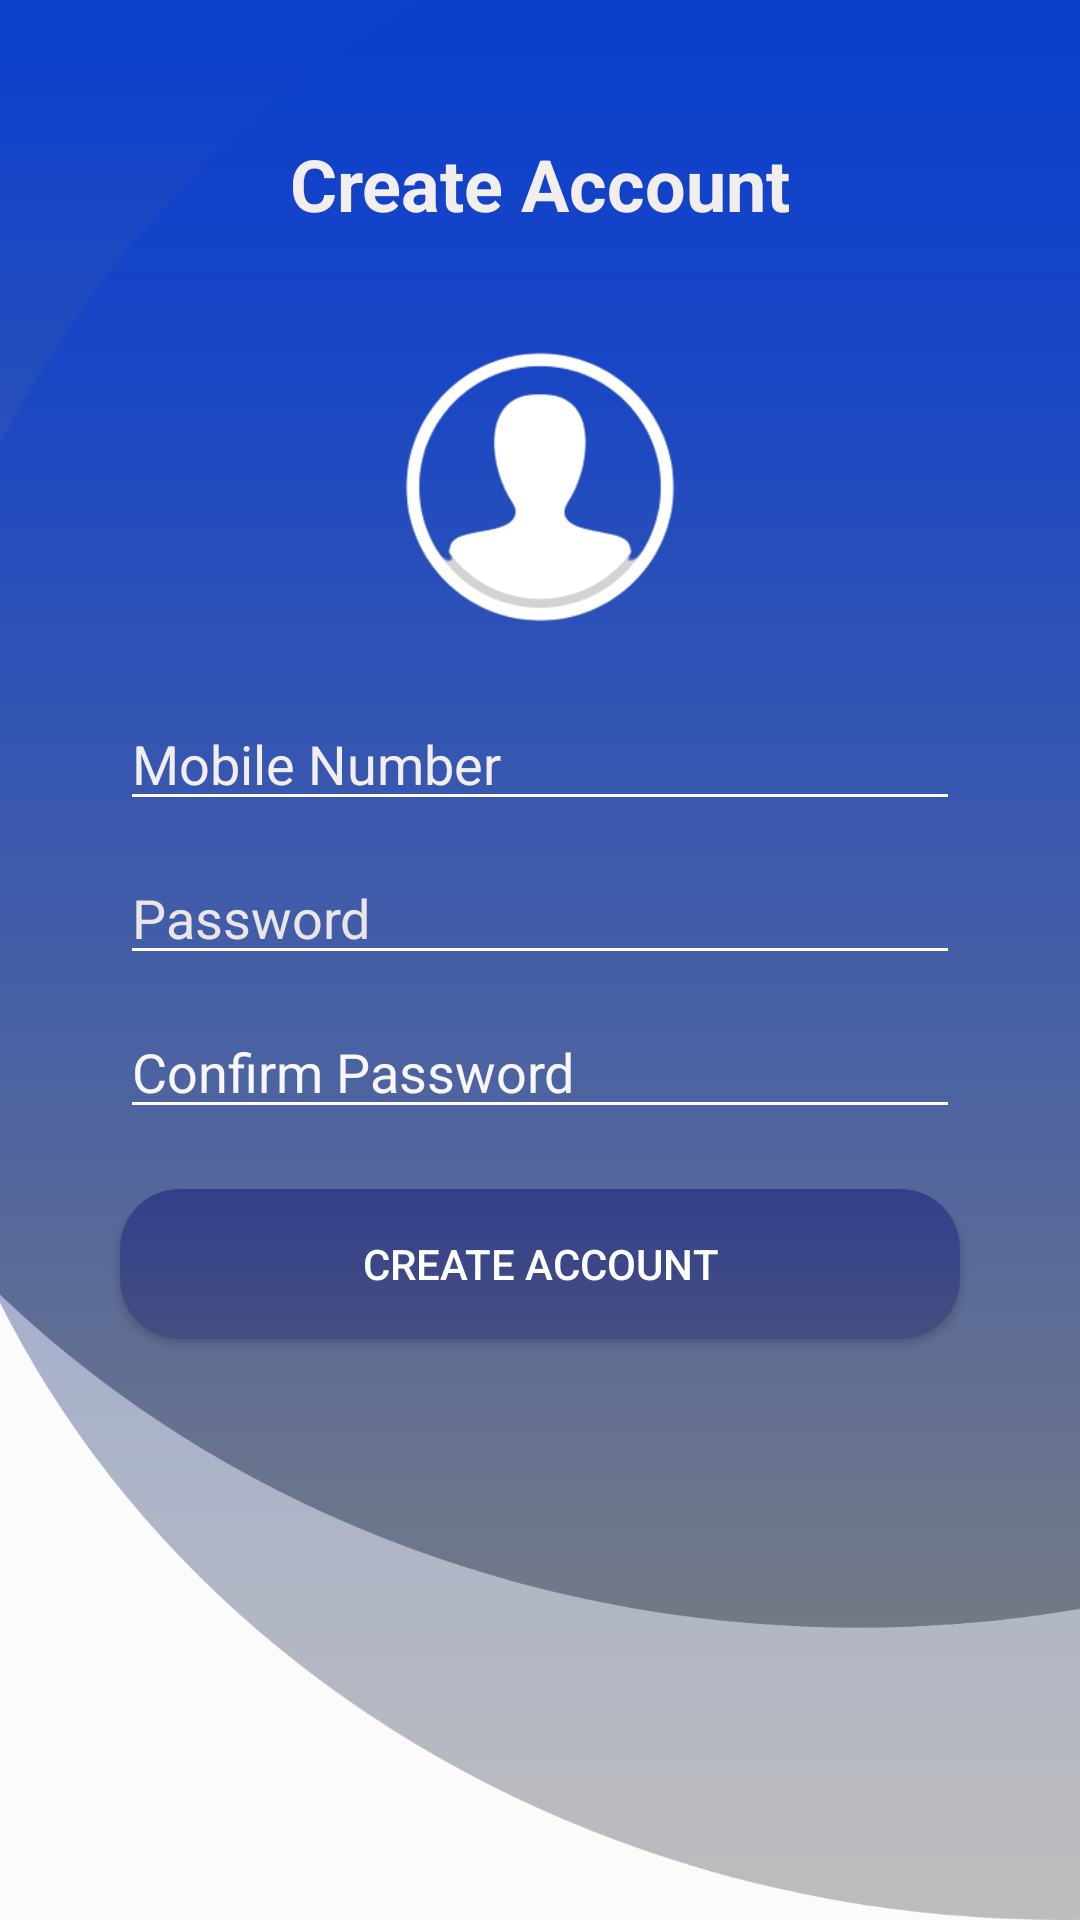

Icon click points for this 1080px×1920px phone screenshot, format [x,y]:
user: [540,487]
